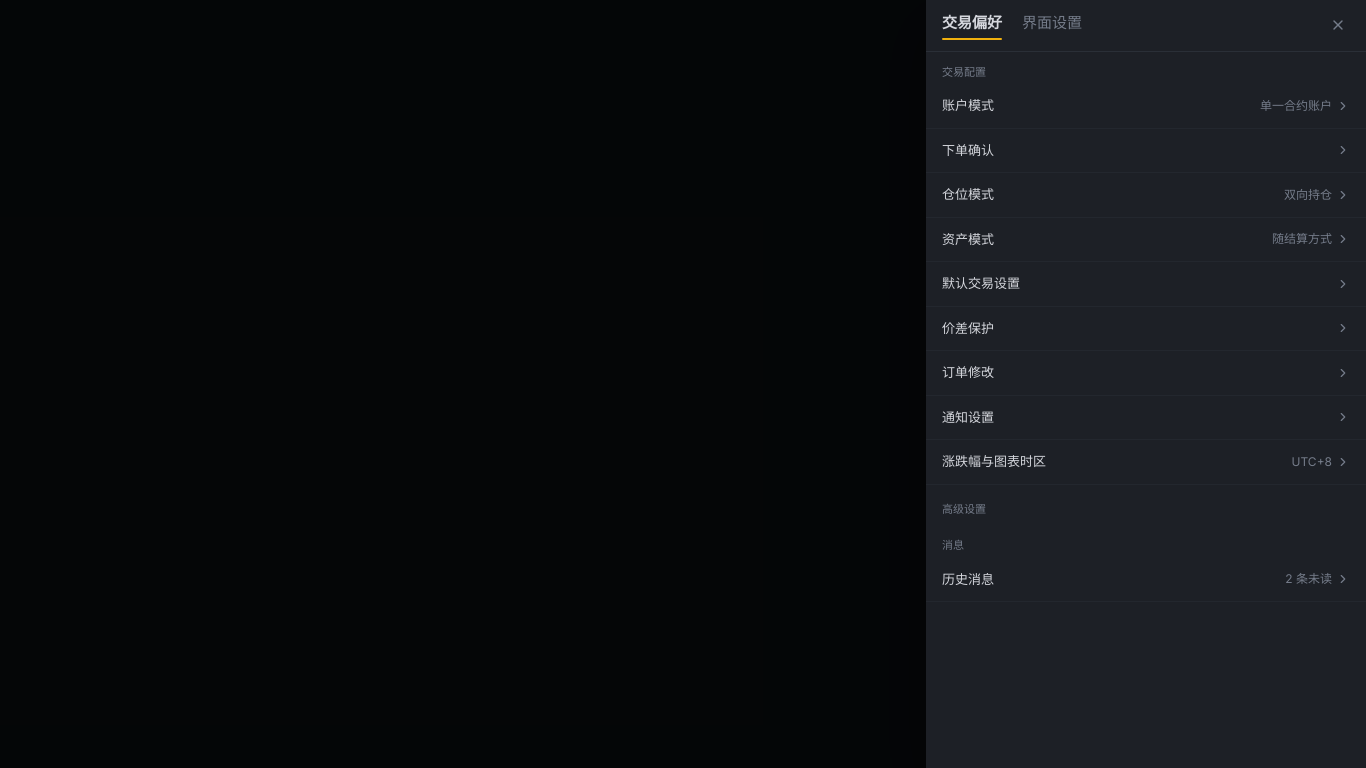
Test: TradingPreferencesDrawer · 历史消息 › 首页显示未读条数；点开列出消息，并把它们标记为已读
Expected: the text "2 条未读" is shown, x1=1285 y1=570 x2=1332 y2=588
Click the button "历史消息 2 条未读" at (968, 578), box x1=926 y1=558 x2=1365 y2=602
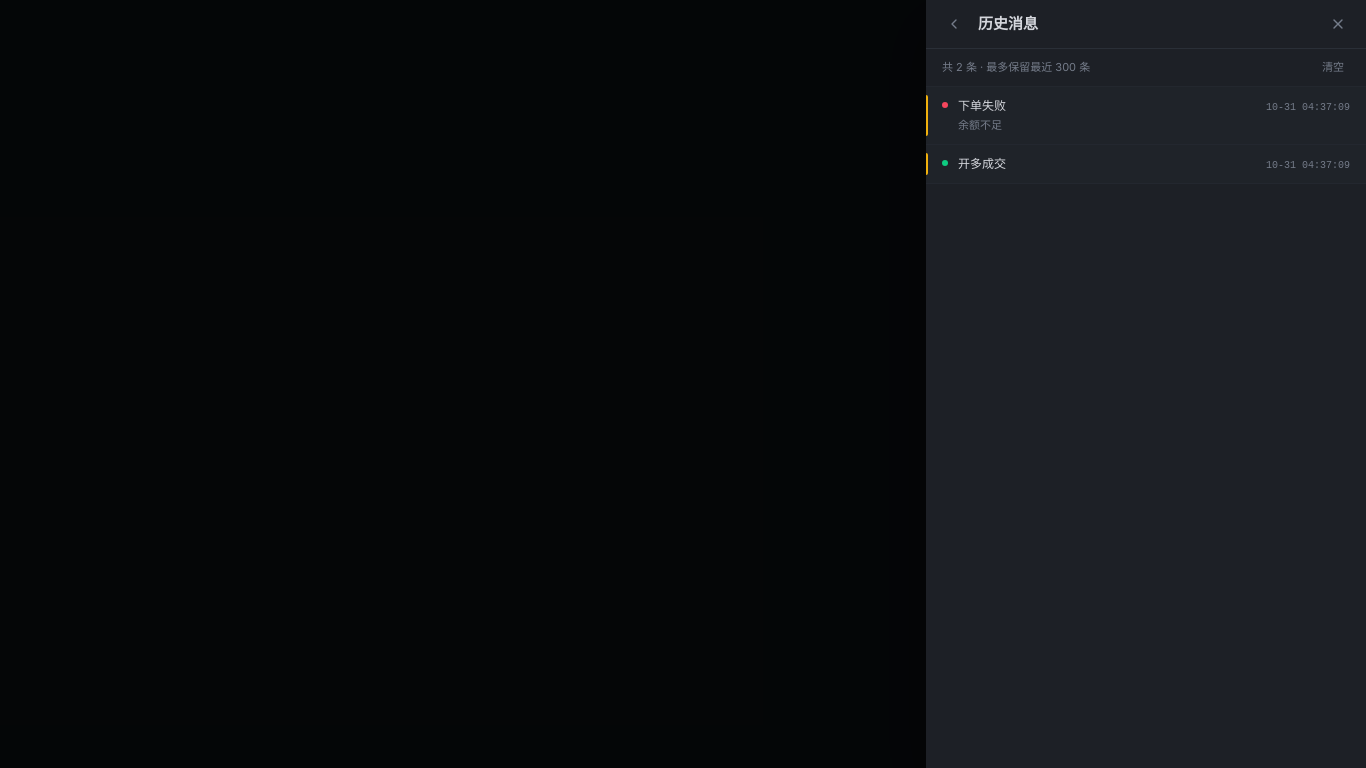
Expected: the heading reads "历史消息", x1=978 y1=14 x2=1038 y2=33
Expected: the text "余额不足" is shown, x1=958 y1=118 x2=1002 y2=132
